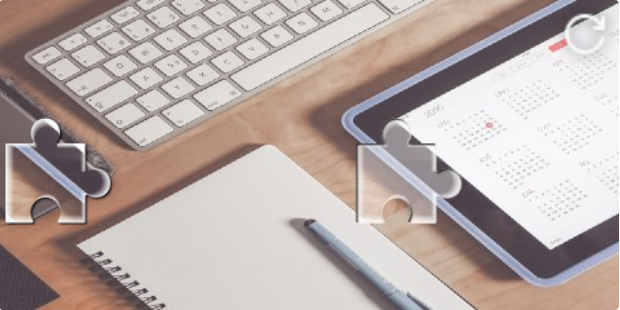target: (357, 120, 460, 224)
